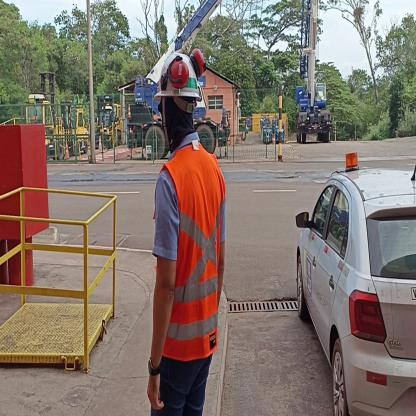Balaclava: (160, 102, 196, 144)
Capacete: (158, 51, 203, 102)
colete: (157, 152, 223, 356)
